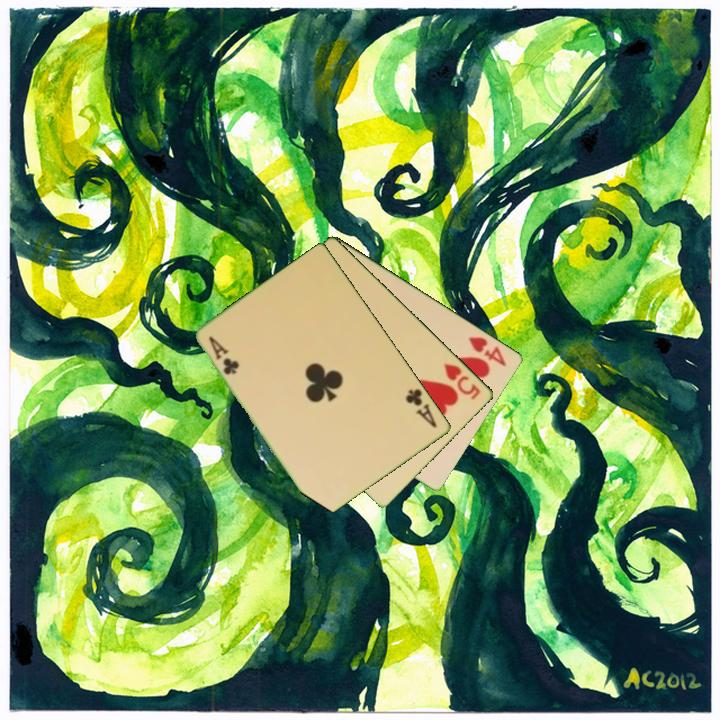4h: (465, 333, 510, 369)
5h: (440, 359, 484, 403)
Ac: (402, 385, 440, 431), (205, 333, 243, 378)
